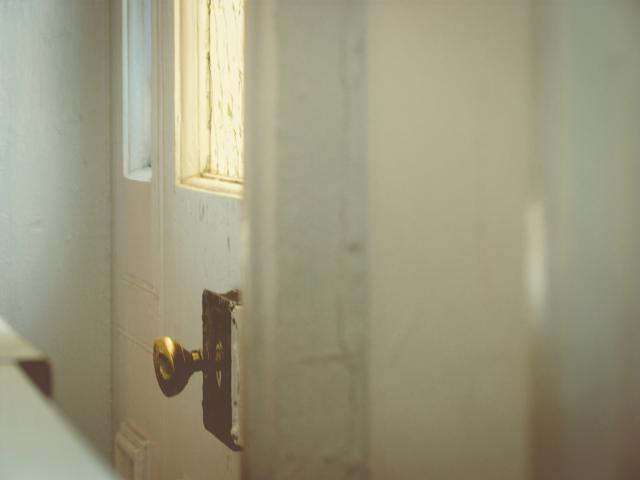Door-handle: (152, 287, 242, 453), (153, 335, 204, 398)
